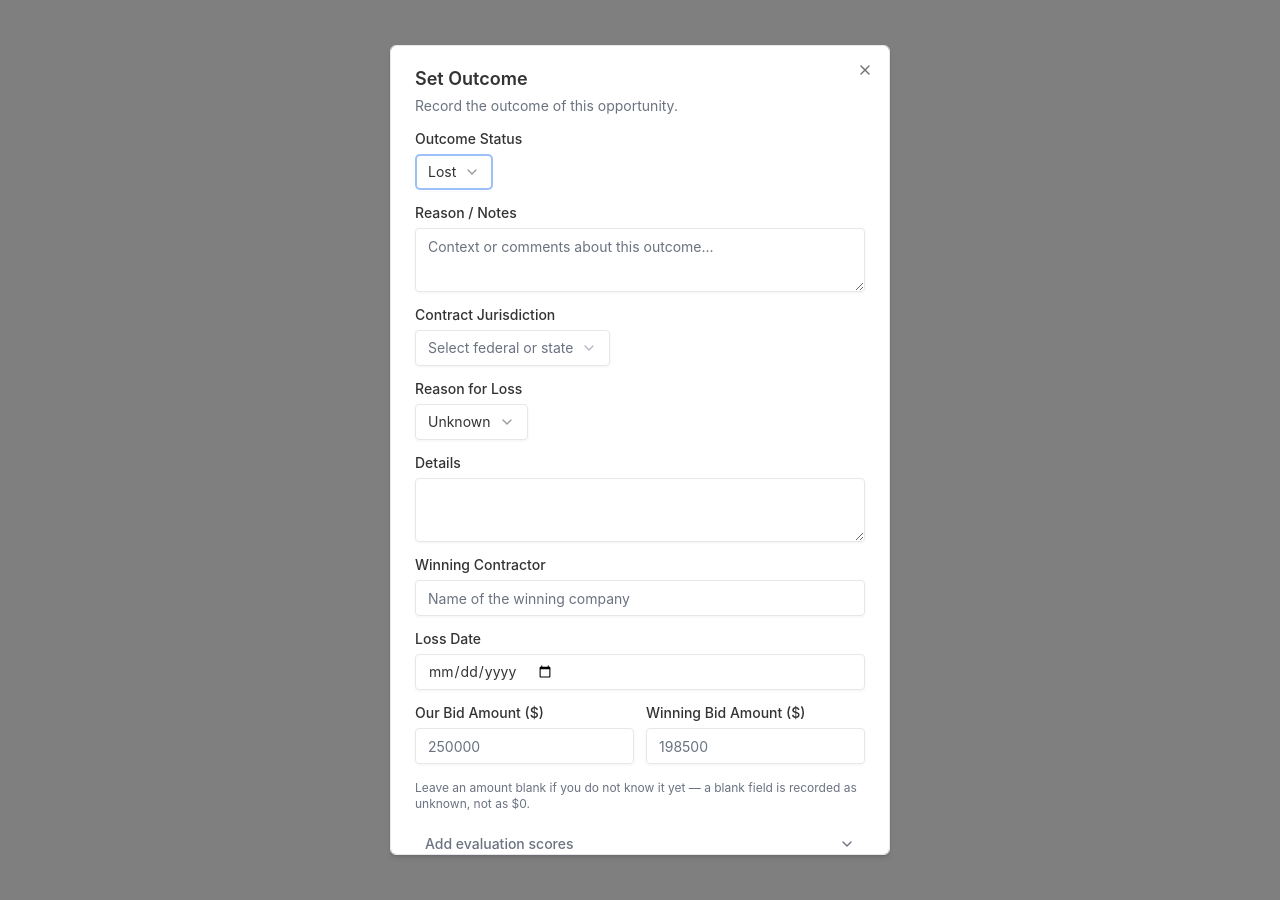
Test case: SetOpportunityOutcomeDialog — loss pricing and evaluation scores › evaluation scores › rejects a score above 100 entered then hidden by collapsing the disclosure
Step 1. Click the button "Add evaluation scores" → [499, 844], box 415,828 -> 865,860
(page scrolled)
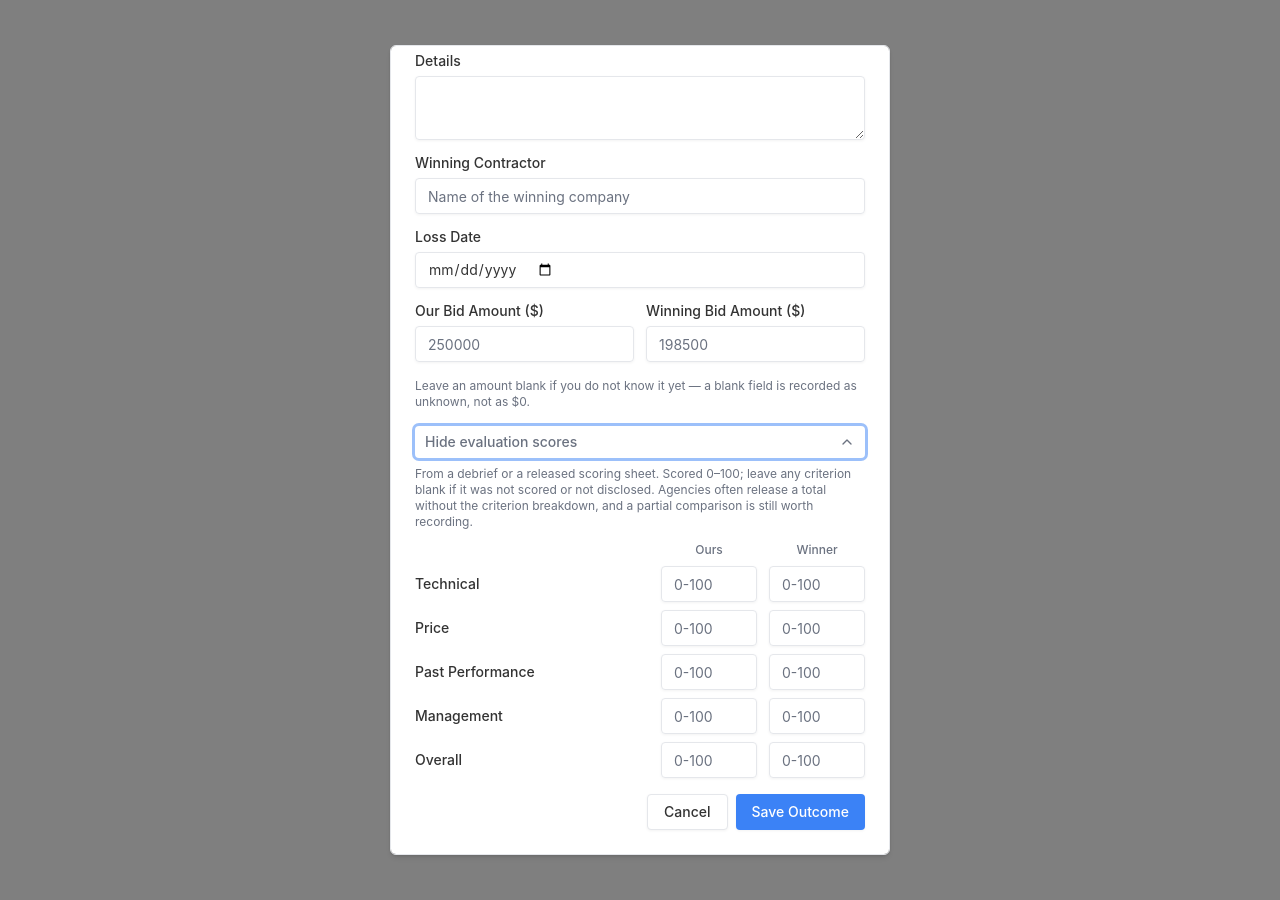
Step 2. Type "105" into the number field labelled "Technical" → [709, 584], box 661,566 -> 757,602
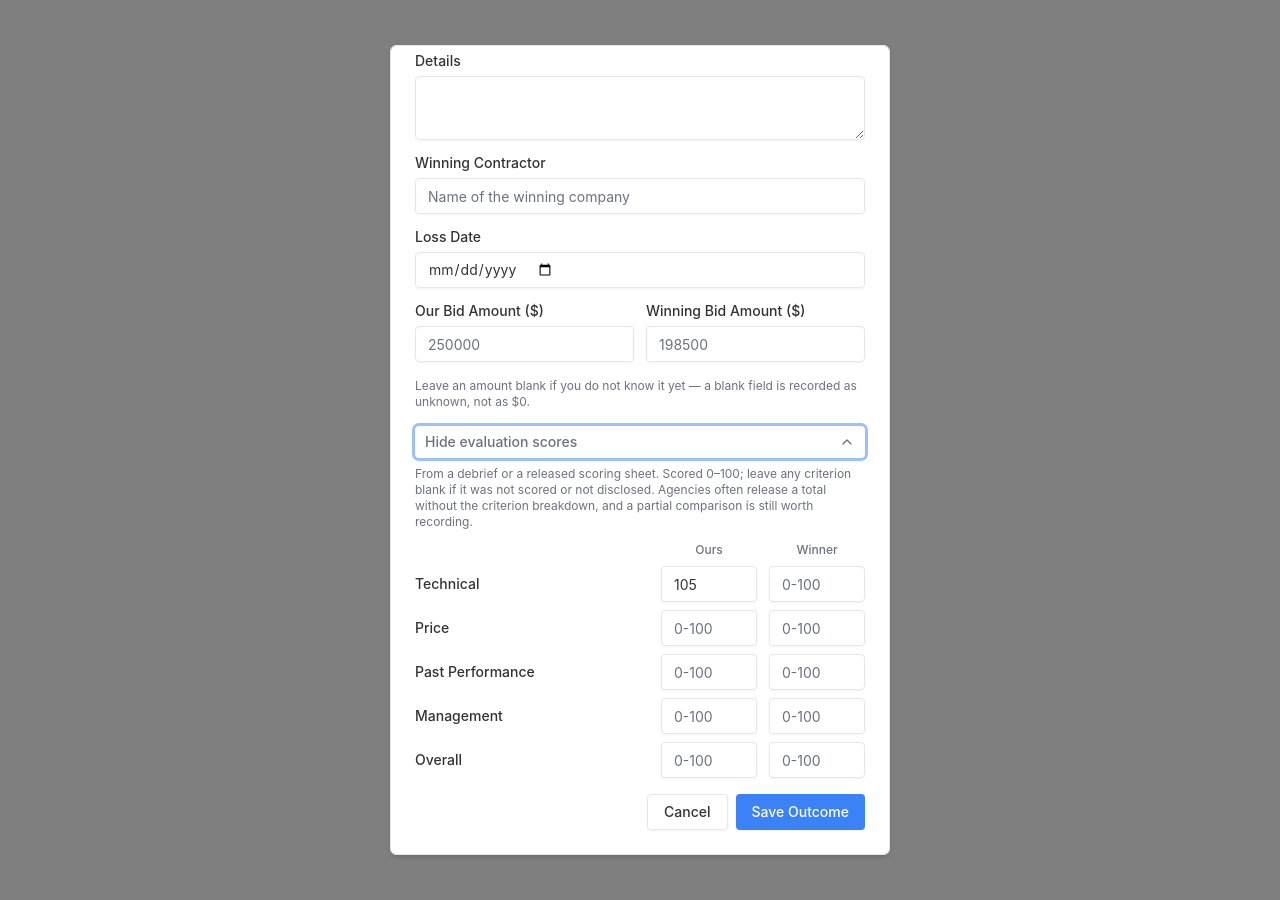
Step 3. Click the button "Hide evaluation scores" → [501, 442], box 415,426 -> 865,458
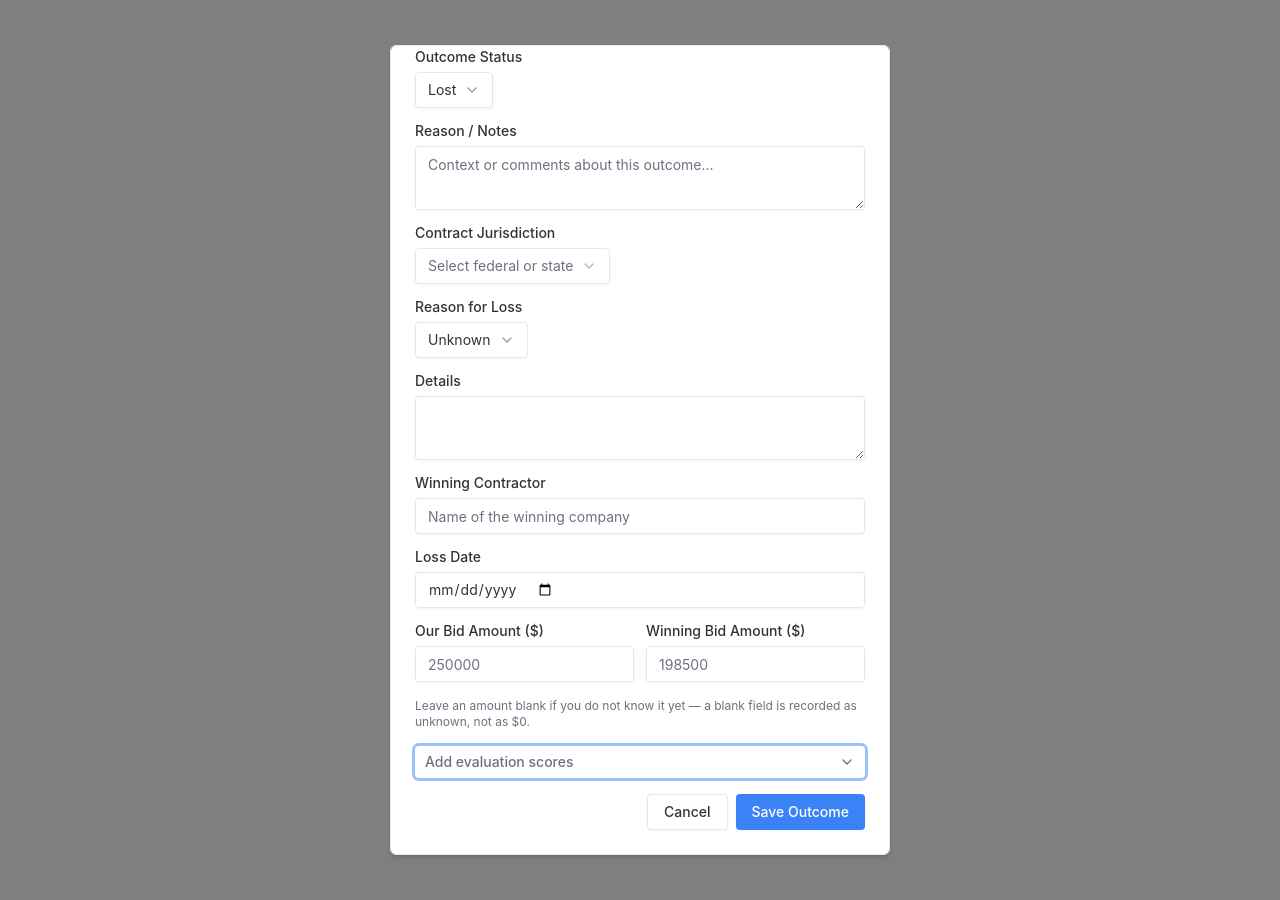
Now the label labelled "Technical" is gone
Step 4. Click the button "Save Outcome" → [800, 812], box 736,794 -> 865,830
(page scrolled)
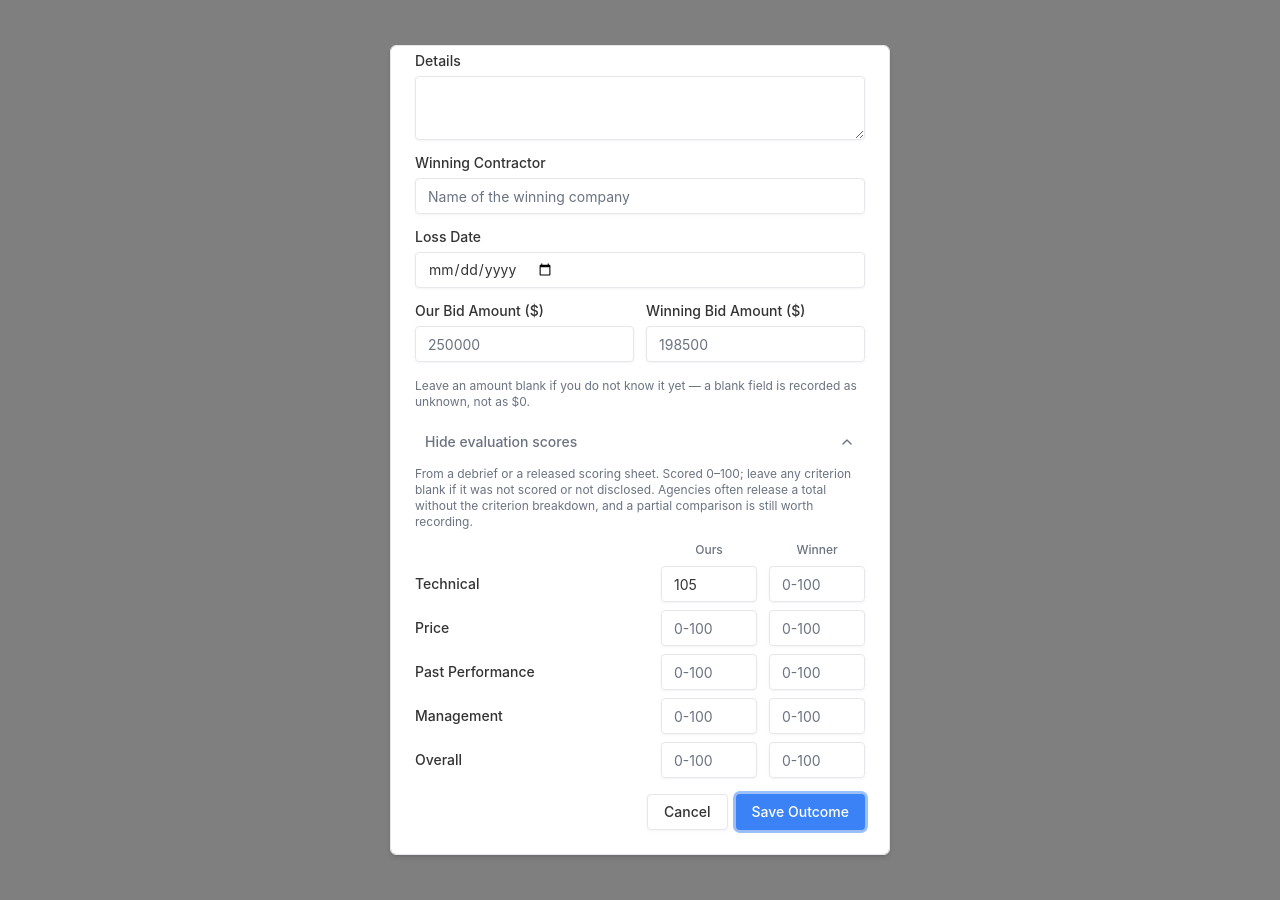
Now the number field labelled "Technical" is shown, box 661,566 -> 757,602
